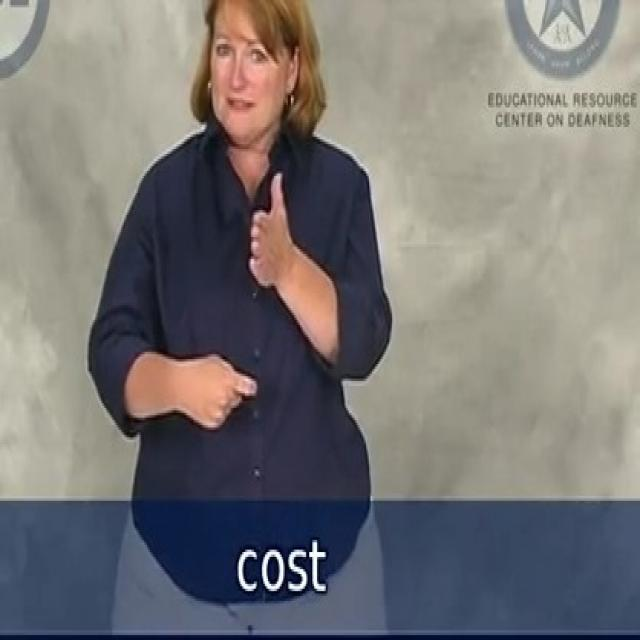cost: (175, 162, 293, 444)
